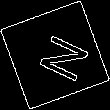N_NW: (23, 26, 87, 84)
